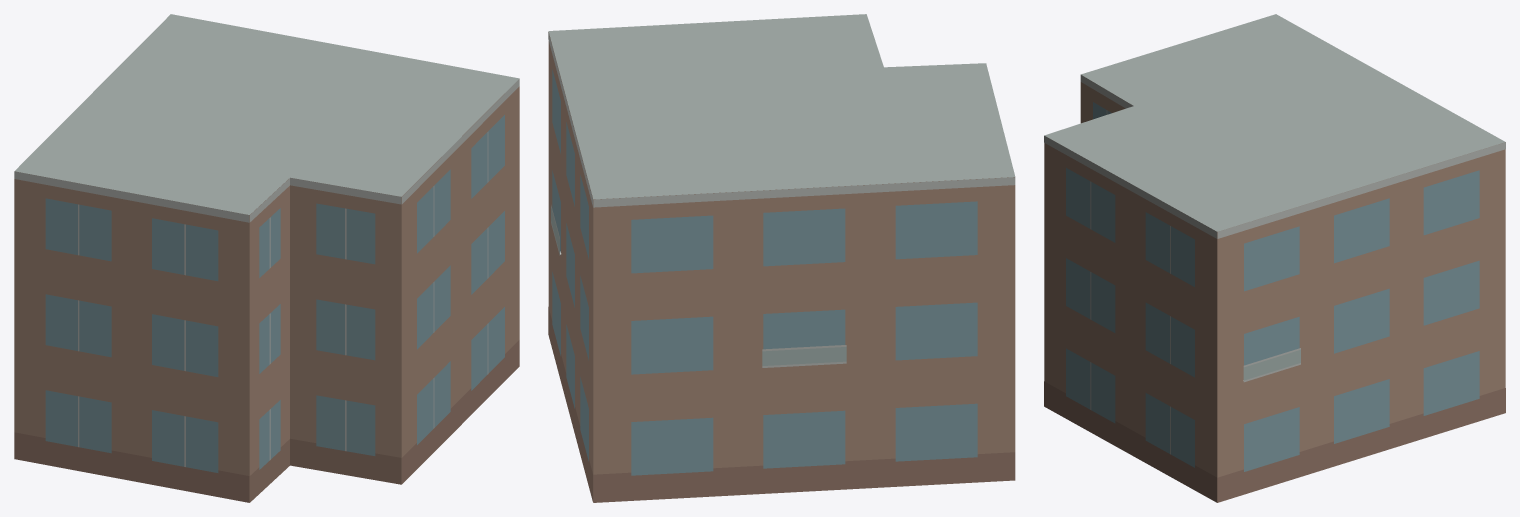
Rendered from survey-upis-32944528.glb.
The picture shows the model from 3 angles, left to right: view 1: azimuth 30°, elevation 25°; view 2: azimuth 150°, elevation 25°; view 3: azimuth 270°, elevation 25°; orthographic projection. The views are drawn at different scales.
Visible parts, largest first — view 1: survey-upis-32944528.tmp; view 2: survey-upis-32944528.tmp; view 3: survey-upis-32944528.tmp.
Part boxes in pixels (left/top/right/bottom): survey-upis-32944528.tmp: left=14, top=14, right=519, bottom=502; survey-upis-32944528.tmp: left=548, top=14, right=1015, bottom=502; survey-upis-32944528.tmp: left=1044, top=14, right=1505, bottom=502.
Bounding box in the file's own units: 15.78 × 9.15 × 14.13.
